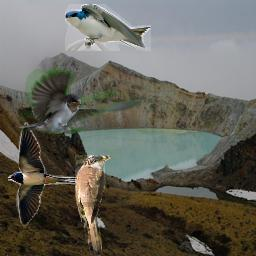Cuckoo: (75, 155, 111, 256)
Swallow: (8, 122, 86, 228), (19, 69, 142, 134), (65, 4, 151, 51)
